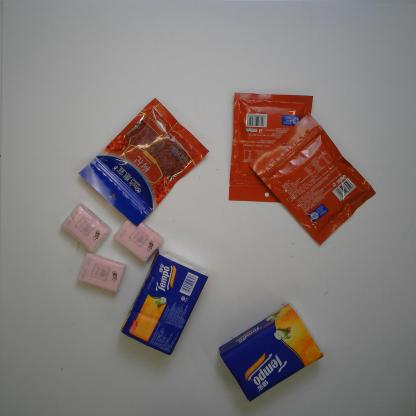Dried Fruit: (77, 96, 210, 228), (248, 112, 377, 246), (227, 91, 314, 205)
Tissue: (218, 302, 325, 403), (119, 246, 210, 358), (60, 202, 114, 254), (112, 218, 165, 264), (77, 251, 127, 294)
